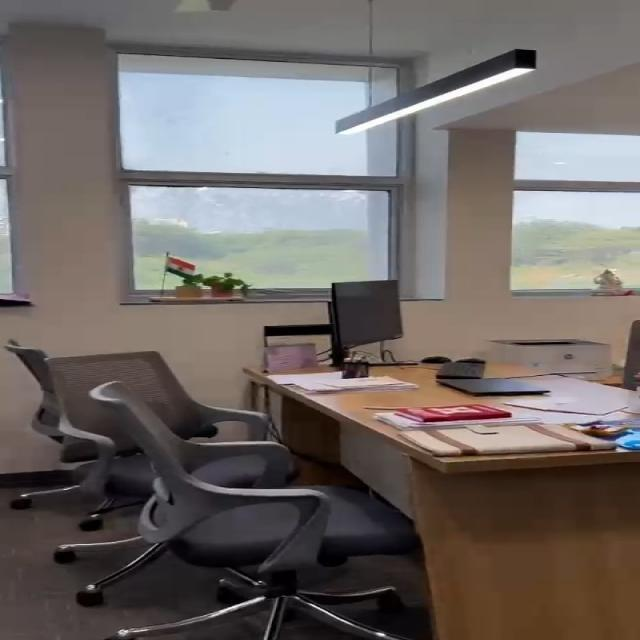floor: (0, 516, 91, 640)
furniture: (114, 415, 438, 639), (0, 331, 204, 509), (267, 262, 458, 376)
wall: (0, 2, 640, 299)
